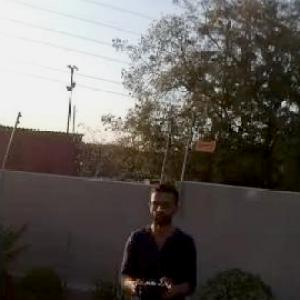follow: (115, 174, 206, 299)
